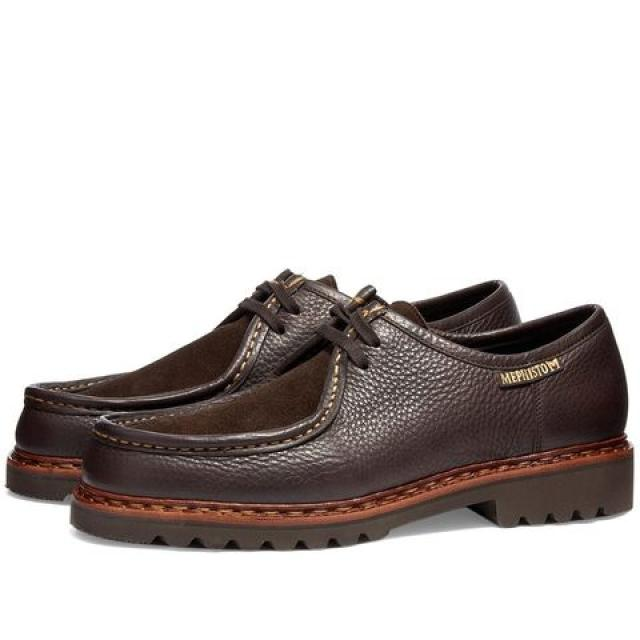shoe: (74, 301, 636, 552), (6, 274, 520, 505)
